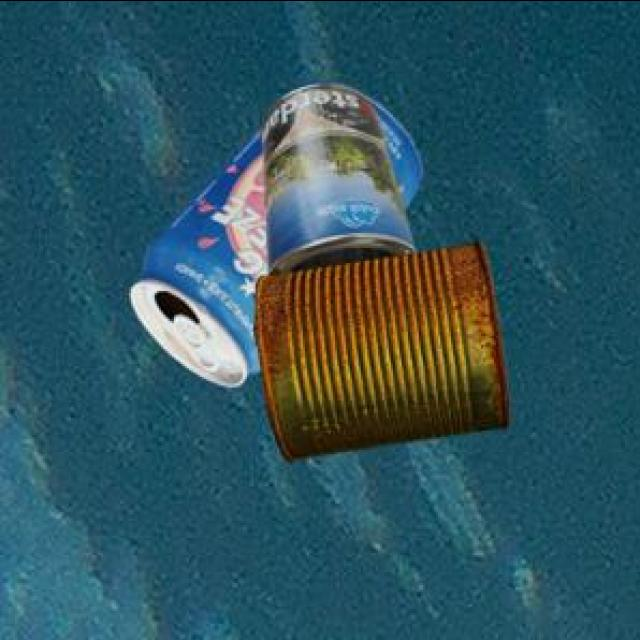logam: (128, 85, 420, 388), (250, 244, 506, 465), (259, 87, 413, 278)
